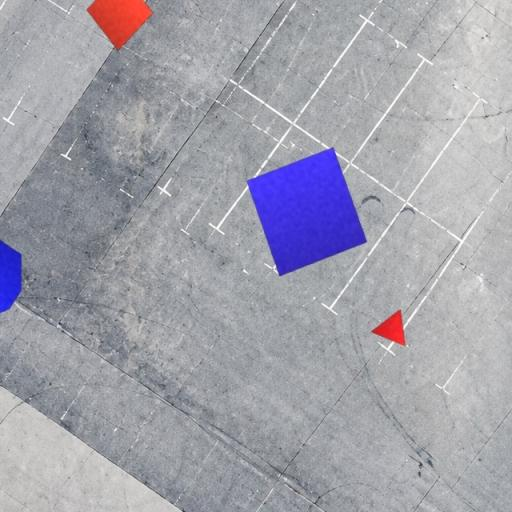BLUE_SQUARE: (246, 146, 368, 277)
RED_SQUARE: (86, 0, 154, 51)
